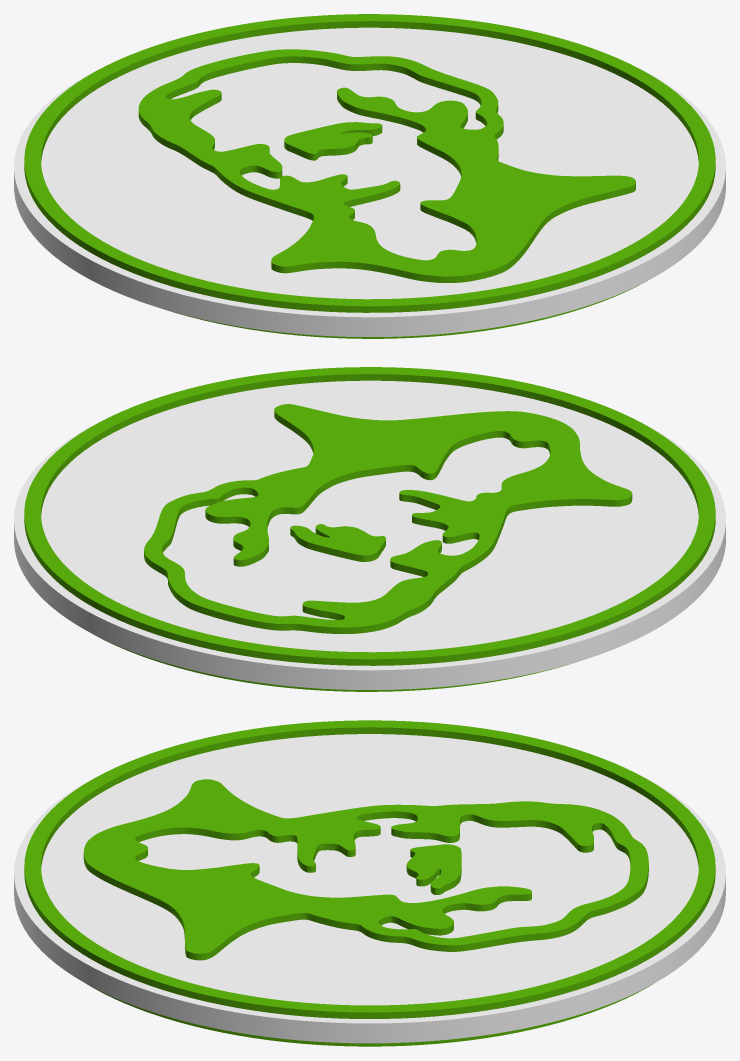
File: Low Poly HKI coin.fbx
3 views of the same model, one above another, from view 1: azimuth 30°, elevation 25°; view 2: azimuth 150°, elevation 25°; view 3: azimuth 270°, elevation 25° (orthographic).
Parts seen in each view (by area): view 1: Circle.006; view 2: Circle.006; view 3: Circle.006.
Boxes of the visible parts, bbox=[...] form: Circle.006: bbox=[14, 14, 725, 338]; Circle.006: bbox=[14, 367, 725, 691]; Circle.006: bbox=[14, 720, 725, 1046].
Size of the model in its own units: 193 by 9.91 by 193.
